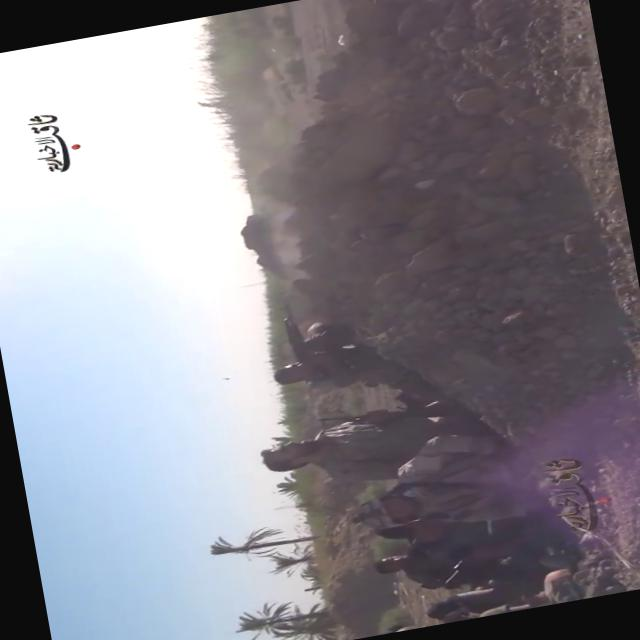long weapon: (308, 385, 471, 446), (268, 298, 327, 379)
